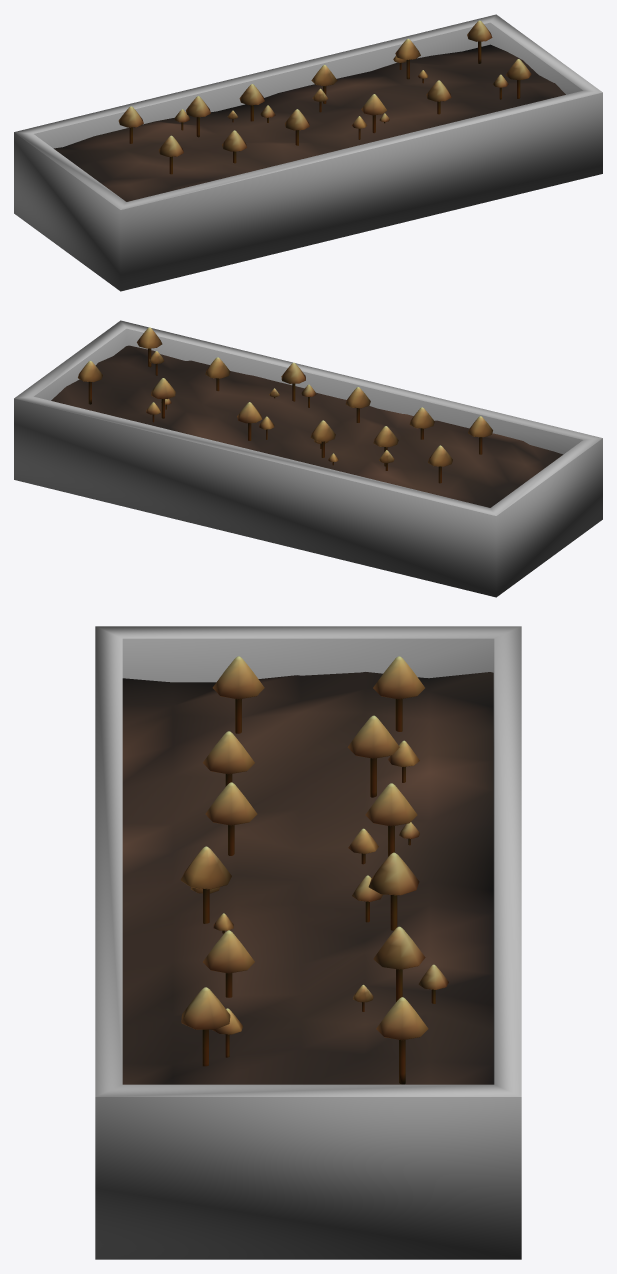
Rendered from furnishings-outdoor-concretegardenbed_v1.glb.
3 renders of one model, top to bottom at view 1: azimuth 30°, elevation 25°; view 2: azimuth 150°, elevation 25°; view 3: azimuth 270°, elevation 25°, orthographic. The views are drawn at different scales.
Visible parts, largest first — view 1: ConcreteGardenBed_v1; view 2: ConcreteGardenBed_v1; view 3: ConcreteGardenBed_v1.
Part boxes in pixels (left/top/right/bottom): ConcreteGardenBed_v1: left=14, top=14, right=602, bottom=291; ConcreteGardenBed_v1: left=14, top=320, right=602, bottom=597; ConcreteGardenBed_v1: left=95, top=626, right=521, bottom=1259.
Size of the model in its own units: 2.05 by 0.439 by 0.7835.
